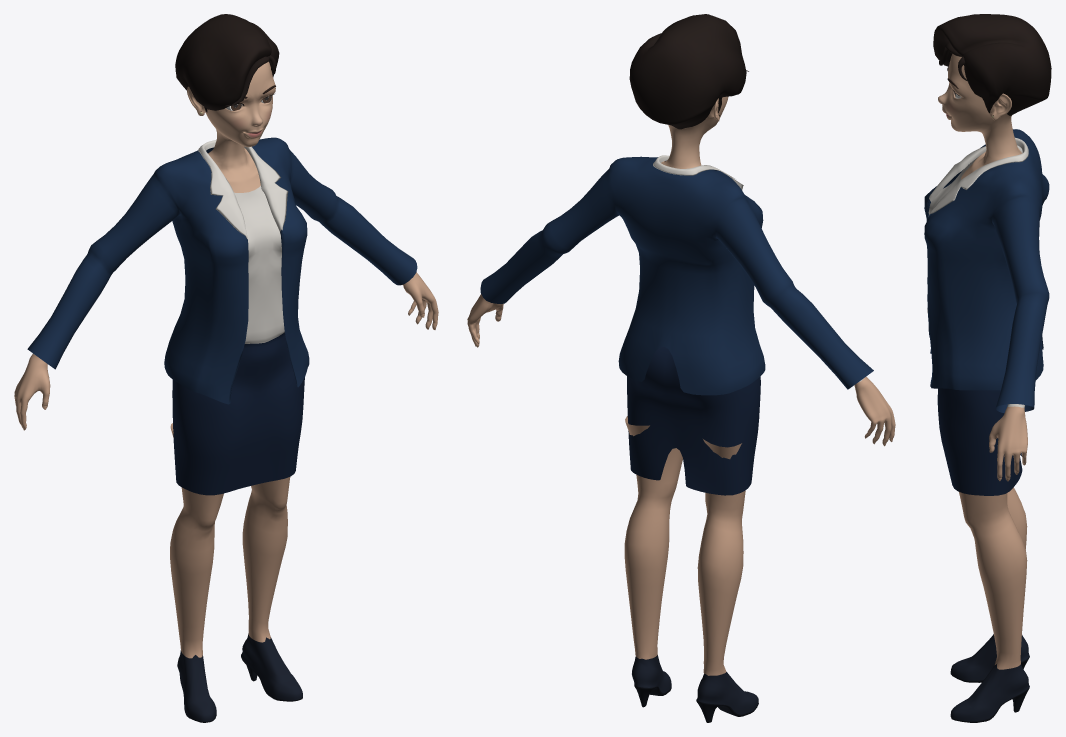
3 renders of one model, left to right at view 1: azimuth 30°, elevation 25°; view 2: azimuth 150°, elevation 25°; view 3: azimuth 270°, elevation 25°, orthographic.
Parts seen in each view (by area): view 1: geo_body_mesh_body; view 2: geo_body_mesh_body; view 3: geo_body_mesh_body.
Part boxes in pixels (box(x1,y1,x2,y2)): geo_body_mesh_body: box(14, 14, 438, 722); geo_body_mesh_body: box(467, 14, 895, 722); geo_body_mesh_body: box(924, 14, 1051, 722).
Bounding box in the file's own units: 4.67 × 7.22 × 1.22.
